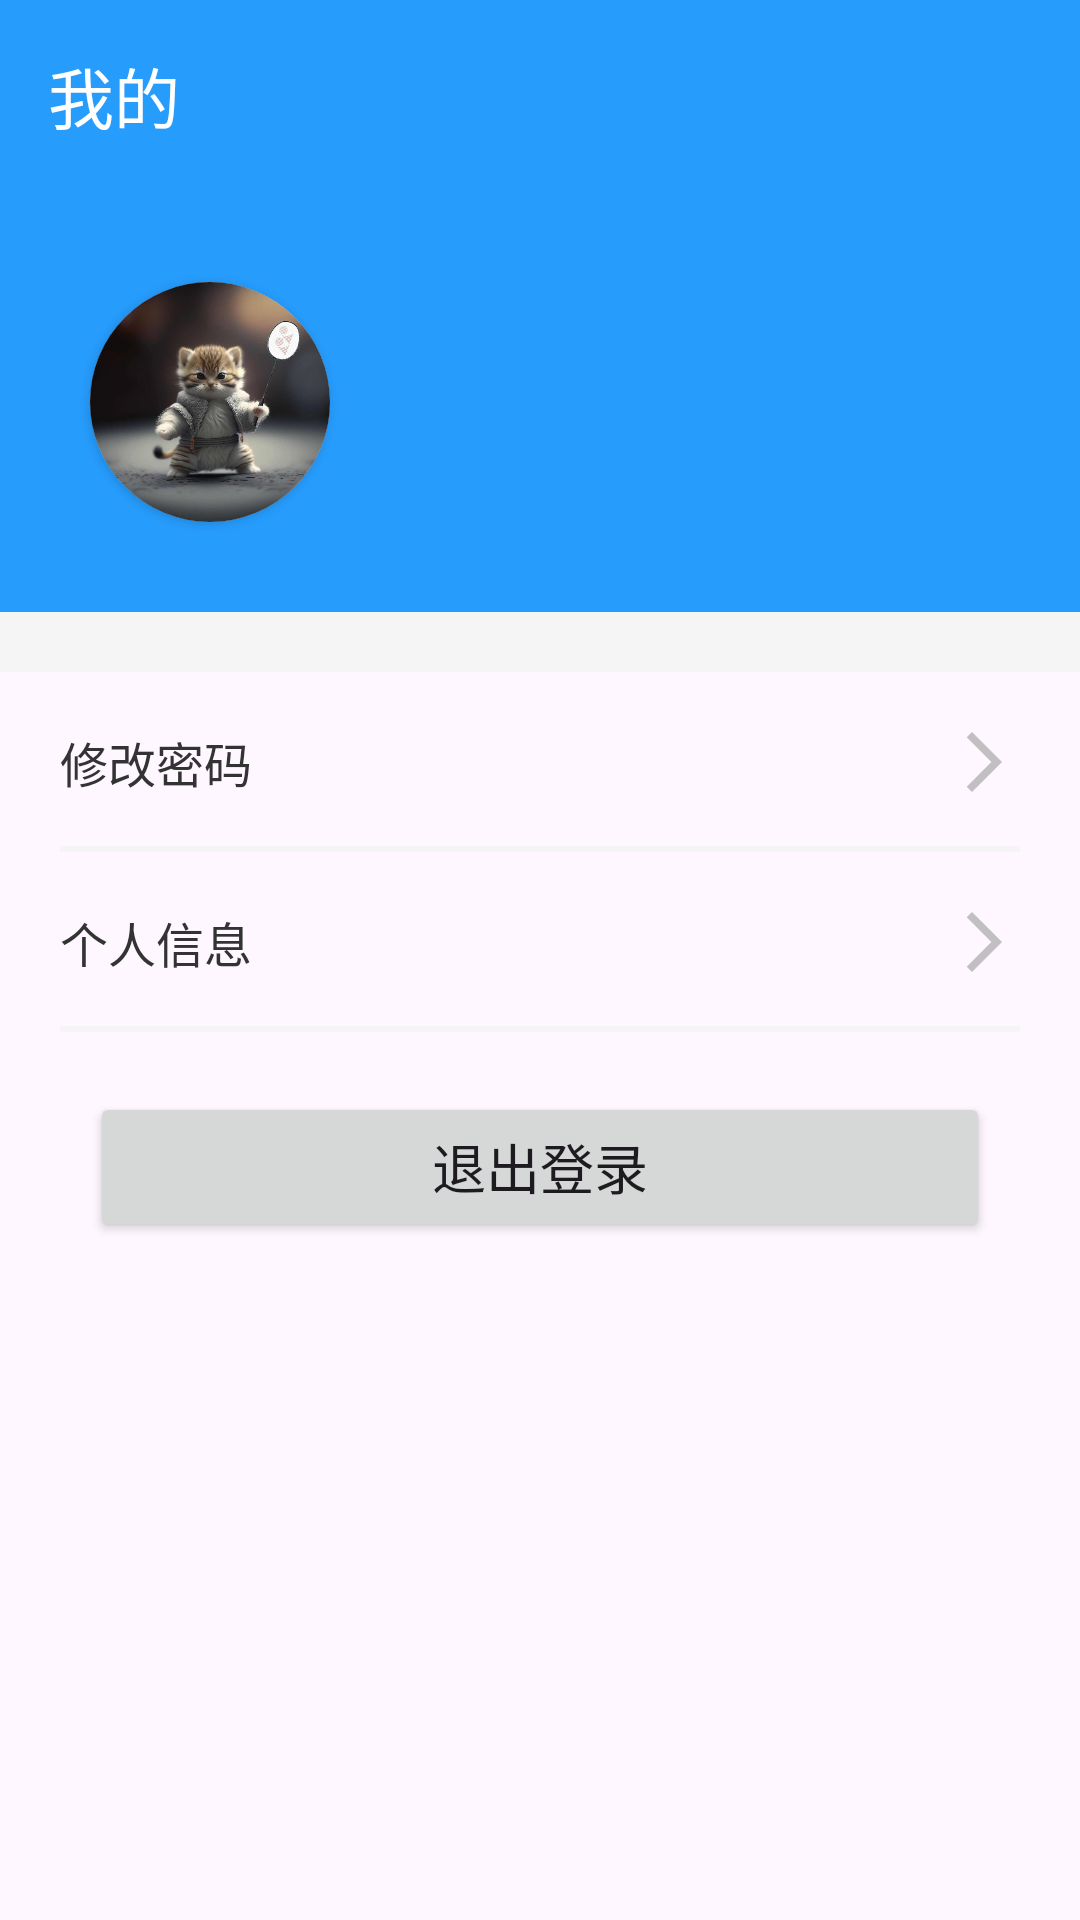

Icons on this 1080 x 1920 Android screen, each with the point to tap as [x,y]:
arrow forward: [984,762], [984,942]
